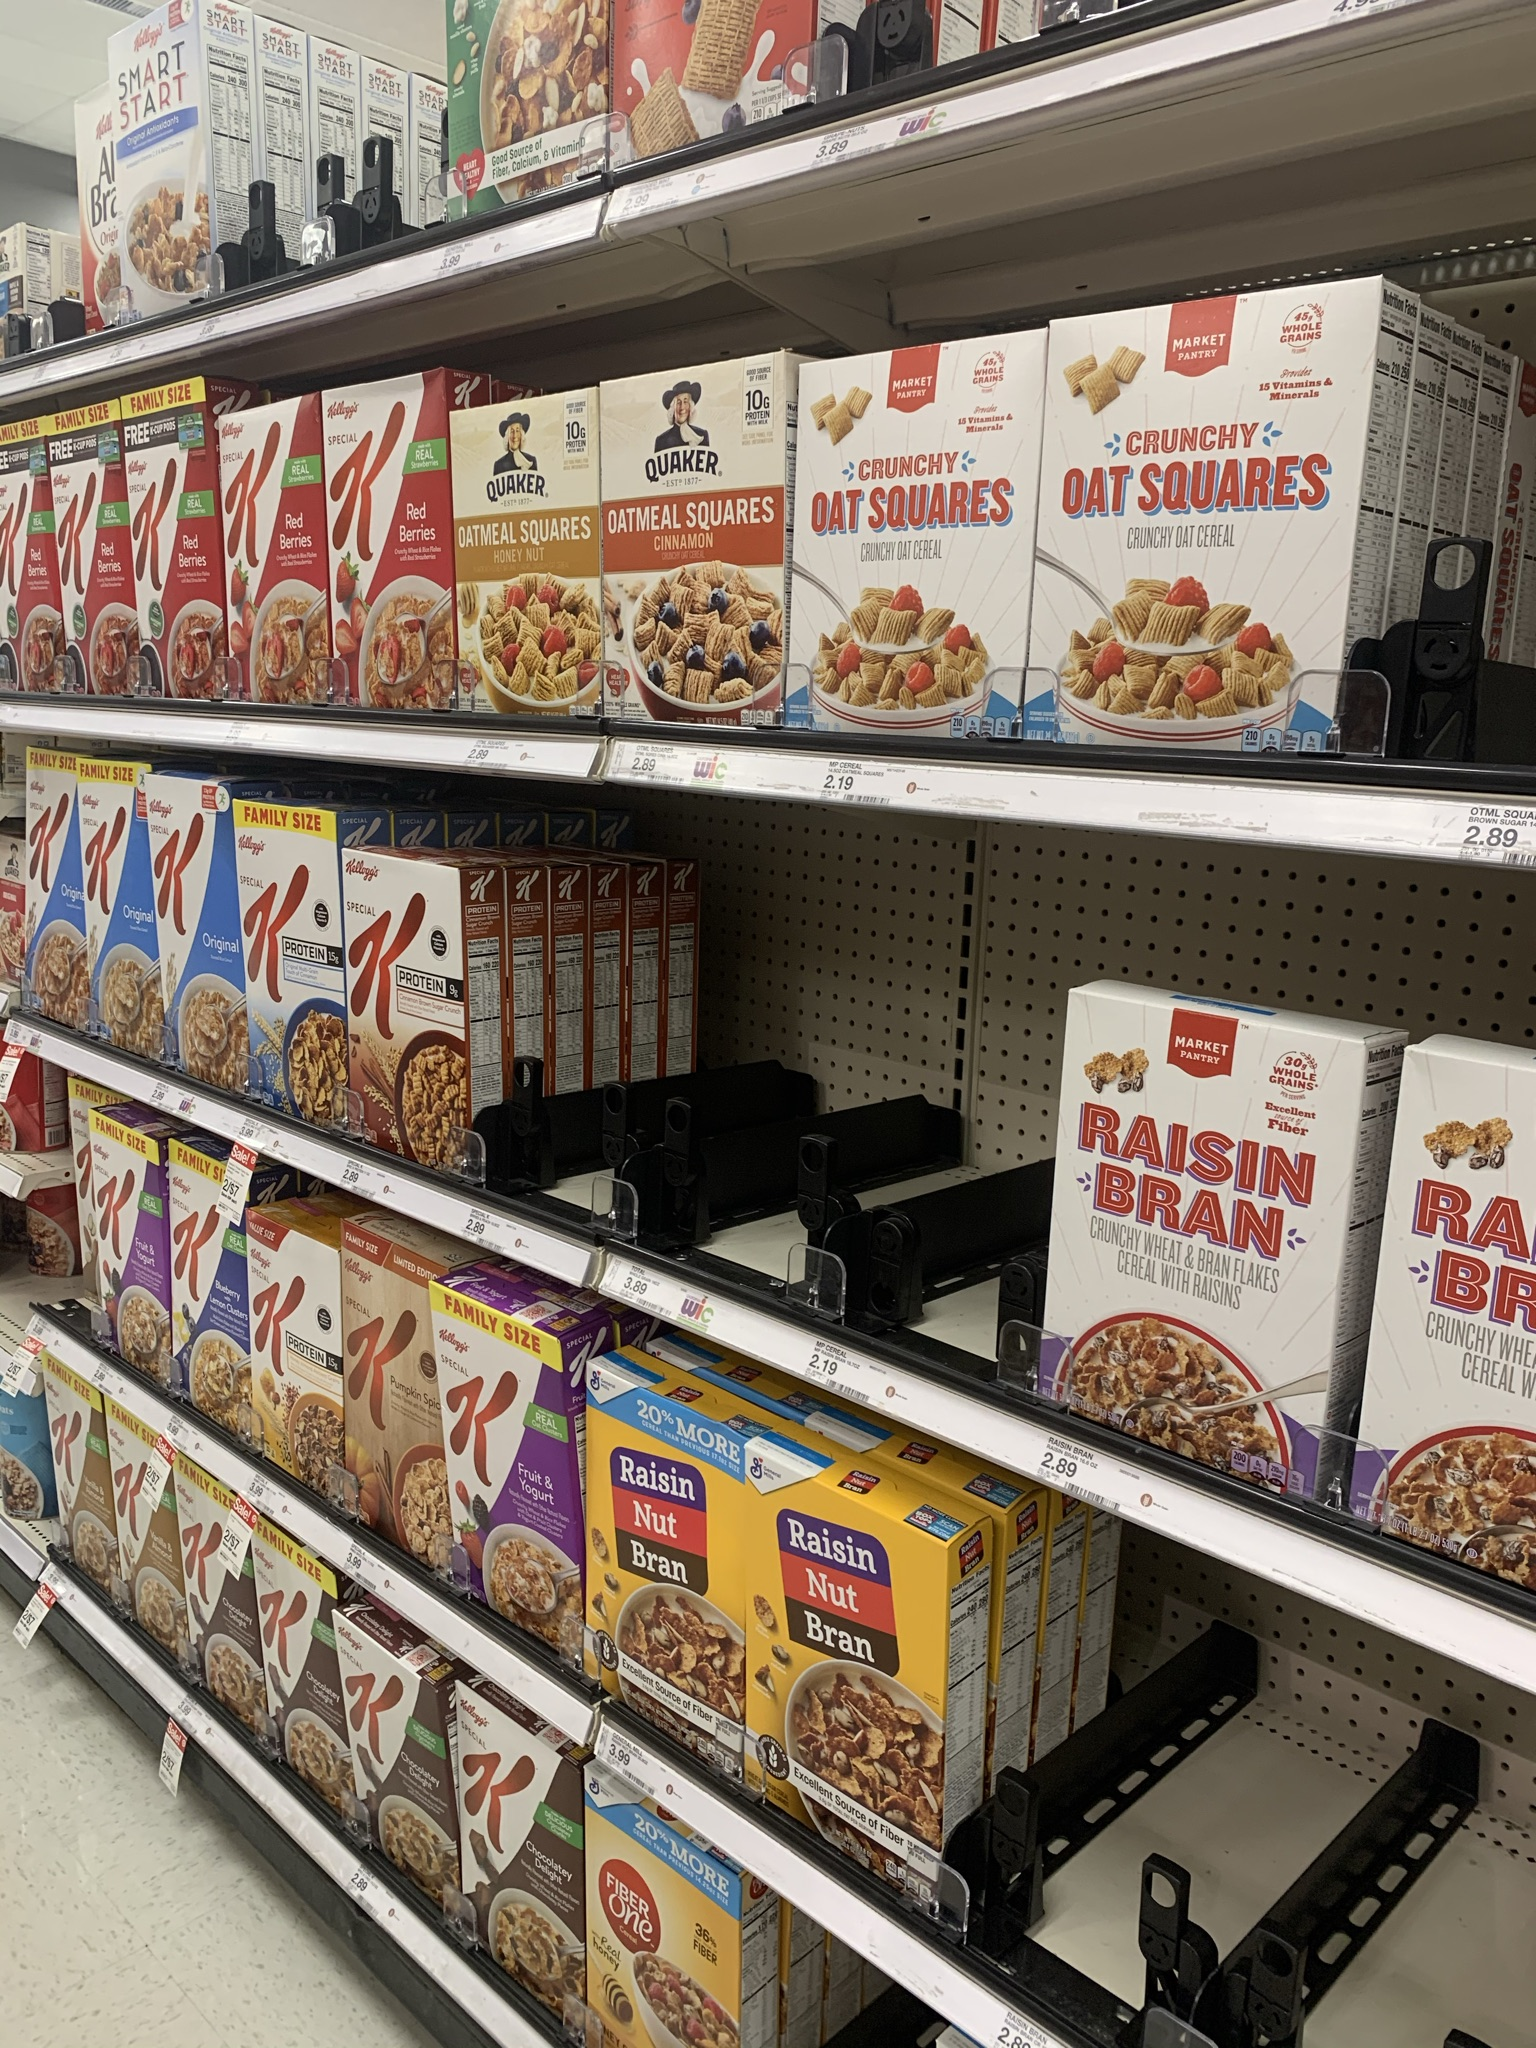Cereal crunchy: (1063, 316, 1339, 731), (812, 356, 1029, 751)
Cereal kellogs: (437, 1292, 578, 1621), (342, 1638, 482, 1964), (328, 393, 466, 701), (344, 860, 474, 1166), (473, 1709, 570, 2048), (349, 1243, 449, 1571), (239, 810, 344, 1101), (152, 780, 248, 1071), (229, 405, 329, 679), (247, 1224, 344, 1506), (134, 416, 239, 666), (48, 434, 148, 689), (266, 1546, 349, 1824), (87, 1121, 165, 1400), (27, 776, 102, 1051), (174, 1164, 237, 1451), (118, 1430, 189, 1680), (97, 764, 157, 1059), (37, 1388, 111, 1614), (2, 448, 61, 590)
Cereal quaker: (616, 374, 807, 711), (473, 414, 599, 705)
Cereal raisin: (1084, 993, 1339, 1488), (766, 1485, 954, 1871), (1407, 1059, 1536, 1588), (608, 1401, 752, 1738)
